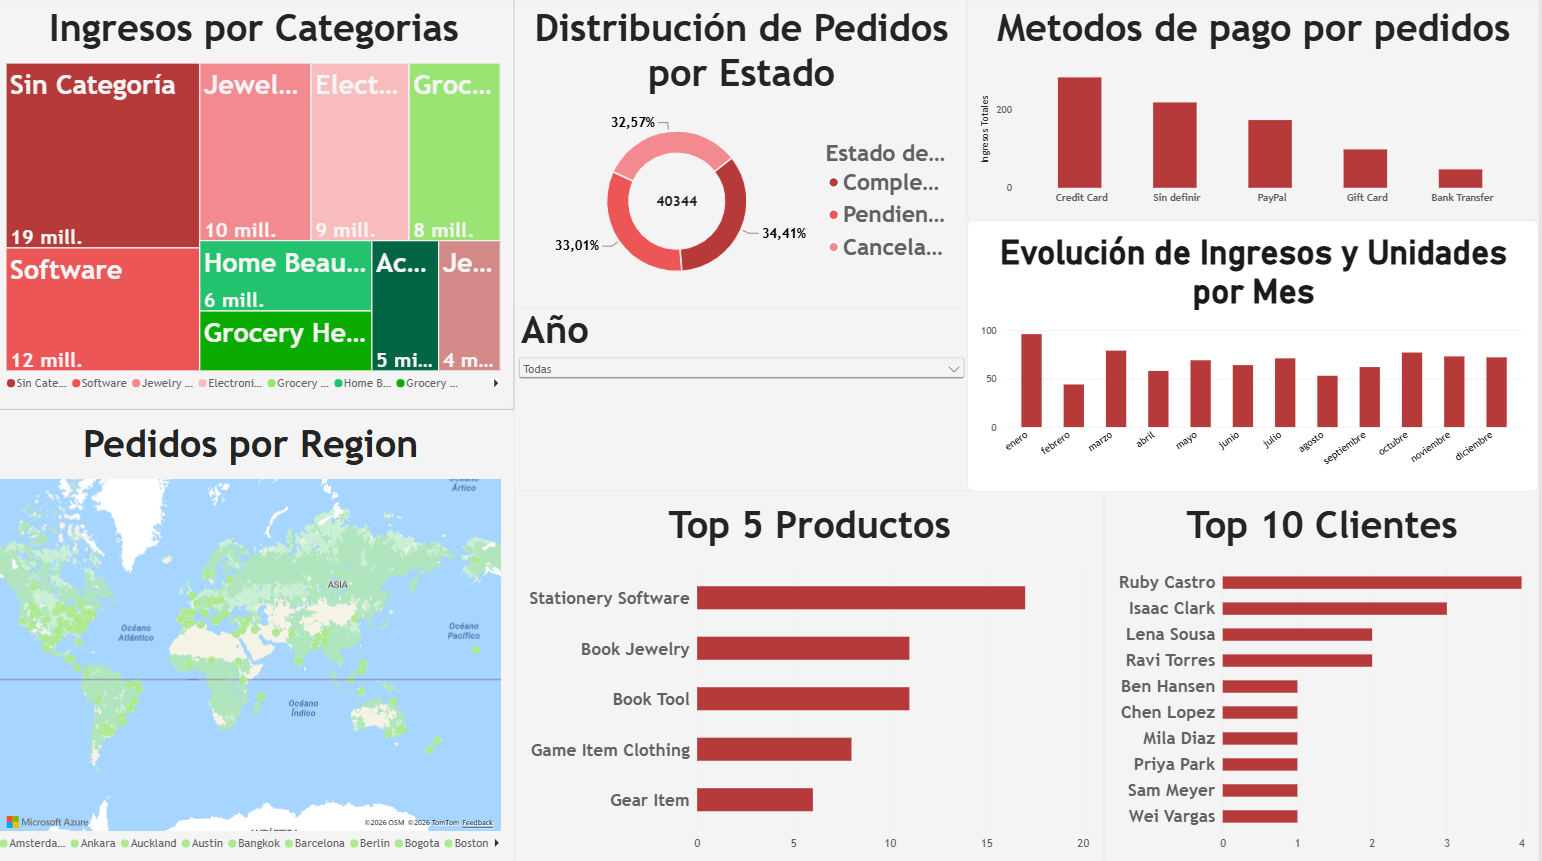

The page's visual inventory and layout, read from the dashboard file:
{"tool":"powerbi","page":{"name":"Dashboard Principal","canvas":[1920,1080],"ordinal":0},"visuals":[{"type":"treemap","title":"Ingresos por Categorias","fields":{"Group":["tabla_muestra2.categoria"],"Values":["Sum(tabla_muestra2.ingresos)"]},"box":[10.1,0,644.8,513],"z":0},{"type":"azureMap","title":"Pedidos por Region","fields":{"Category":["tabla_muestra2.cliente"],"Series":["tabla_muestra2.region"]},"box":[0,513,654.9,567.7],"z":1000},{"type":"clusteredBarChart","title":"Top 5 Productos","fields":{"Category":["tabla_muestra2.producto"],"Y":["CountNonNull(tabla_muestra2.ingresos)"]},"box":[654.9,614.4,727.9,466.3],"z":2000},{"type":"clusteredBarChart","title":"Top 10 Clientes","fields":{"Category":["tabla_muestra2.cliente"],"Y":["CountNonNull(tabla_muestra2.ingresos)"]},"box":[1382.8,614.4,537.3,466.3],"z":3000},{"type":"clusteredColumnChart","title":"Metodos de pago por pedidos","fields":{"Category":["tabla_muestra2.metodo_pago"],"Y":["CountNonNull(tabla_muestra2.ingresos)"]},"box":[1214.5,0,705.6,279.8],"z":4000},{"type":"donutChart","title":"Distribución de Pedidos por Estado","fields":{"Category":["tabla_muestra2.estado_venta"],"Y":["Sum(tabla_muestra2.unidades)"]},"box":[654.9,0,559.6,389.3],"z":5000},{"type":"lineClusteredColumnComboChart","title":"Evolución de Ingresos y Unidades por Mes","fields":{"Category":["tabla_muestra2.fecha_pedido.Variación.Jerarquía de fechas.Año","tabla_muestra2.fecha_pedido.Variación.Jerarquía de fechas.Mes"],"Y":["CountNonNull(tabla_muestra2.ingresos)"]},"box":[1214.5,279.8,705.6,334.5],"z":6000},{"type":"slicer","fields":{"Values":["tabla_muestra2.fecha_pedido.Variación.Jerarquía de fechas.Año","tabla_muestra2.fecha_pedido.Variación.Jerarquía de fechas.Mes"]},"box":[653.6,387.9,560.8,223.5],"z":7000}]}

Visuals, with their boxes in screenshot pixels (x1, y1, x2, y2), scaled from the page's 1920x1080 canvas onto the 1542x861 screenshot:
"Ingresos por Categorias" treemap: [8,0,526,409]
"Pedidos por Region" azureMap: [0,409,526,860]
"Top 5 Productos" clusteredBarChart: [526,490,1111,860]
"Top 10 Clientes" clusteredBarChart: [1111,490,1541,860]
"Metodos de pago por pedidos" clusteredColumnChart: [975,0,1541,223]
"Distribución de Pedidos por Estado" donutChart: [526,0,975,310]
"Evolución de Ingresos y Unidades por Mes" lineClusteredColumnComboChart: [975,223,1541,490]
slicer - tabla_muestra2.fecha_pedido.Variación.Jerarquía de fechas.Año x tabla_muestra2.fecha_pedido.Variación.Jerarquía de fechas.Mes: [525,309,975,487]
